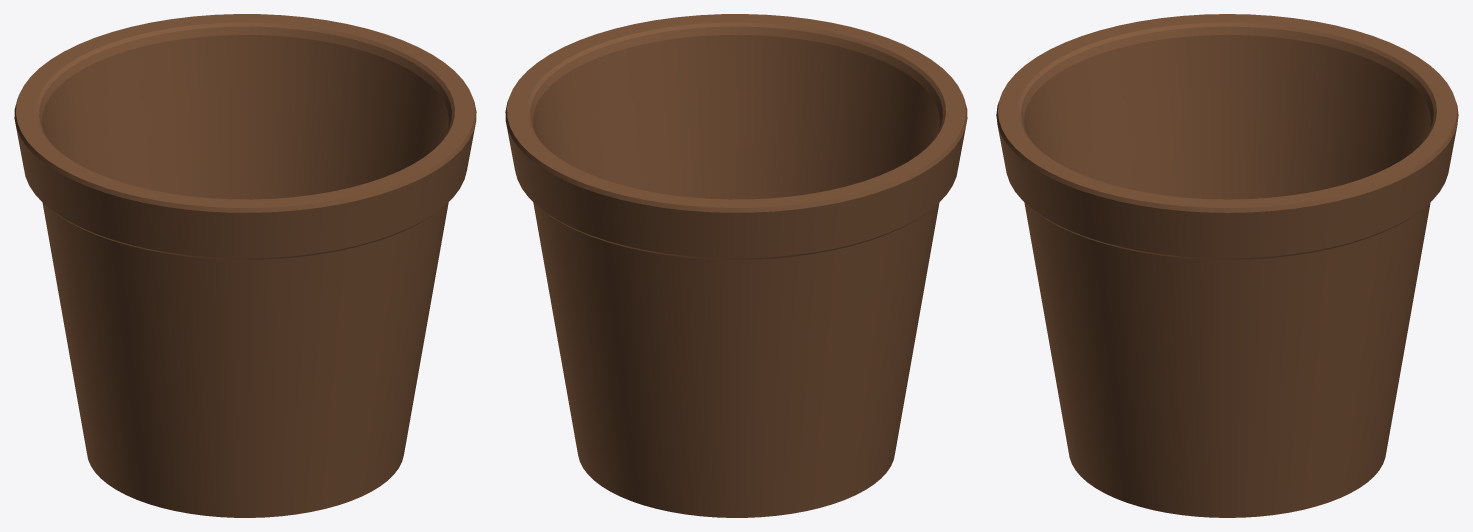
3 renders of one model, left to right at view 1: azimuth 30°, elevation 25°; view 2: azimuth 150°, elevation 25°; view 3: azimuth 270°, elevation 25°, orthographic.
Parts seen in each view (by area): view 1: vessel; view 2: vessel; view 3: vessel.
Part boxes in pixels (bbox=[...]): vessel: bbox=[14, 14, 476, 517]; vessel: bbox=[505, 14, 967, 517]; vessel: bbox=[996, 14, 1458, 517].
Bounding box in the file's own units: 0.3 × 0.2444 × 0.3.
